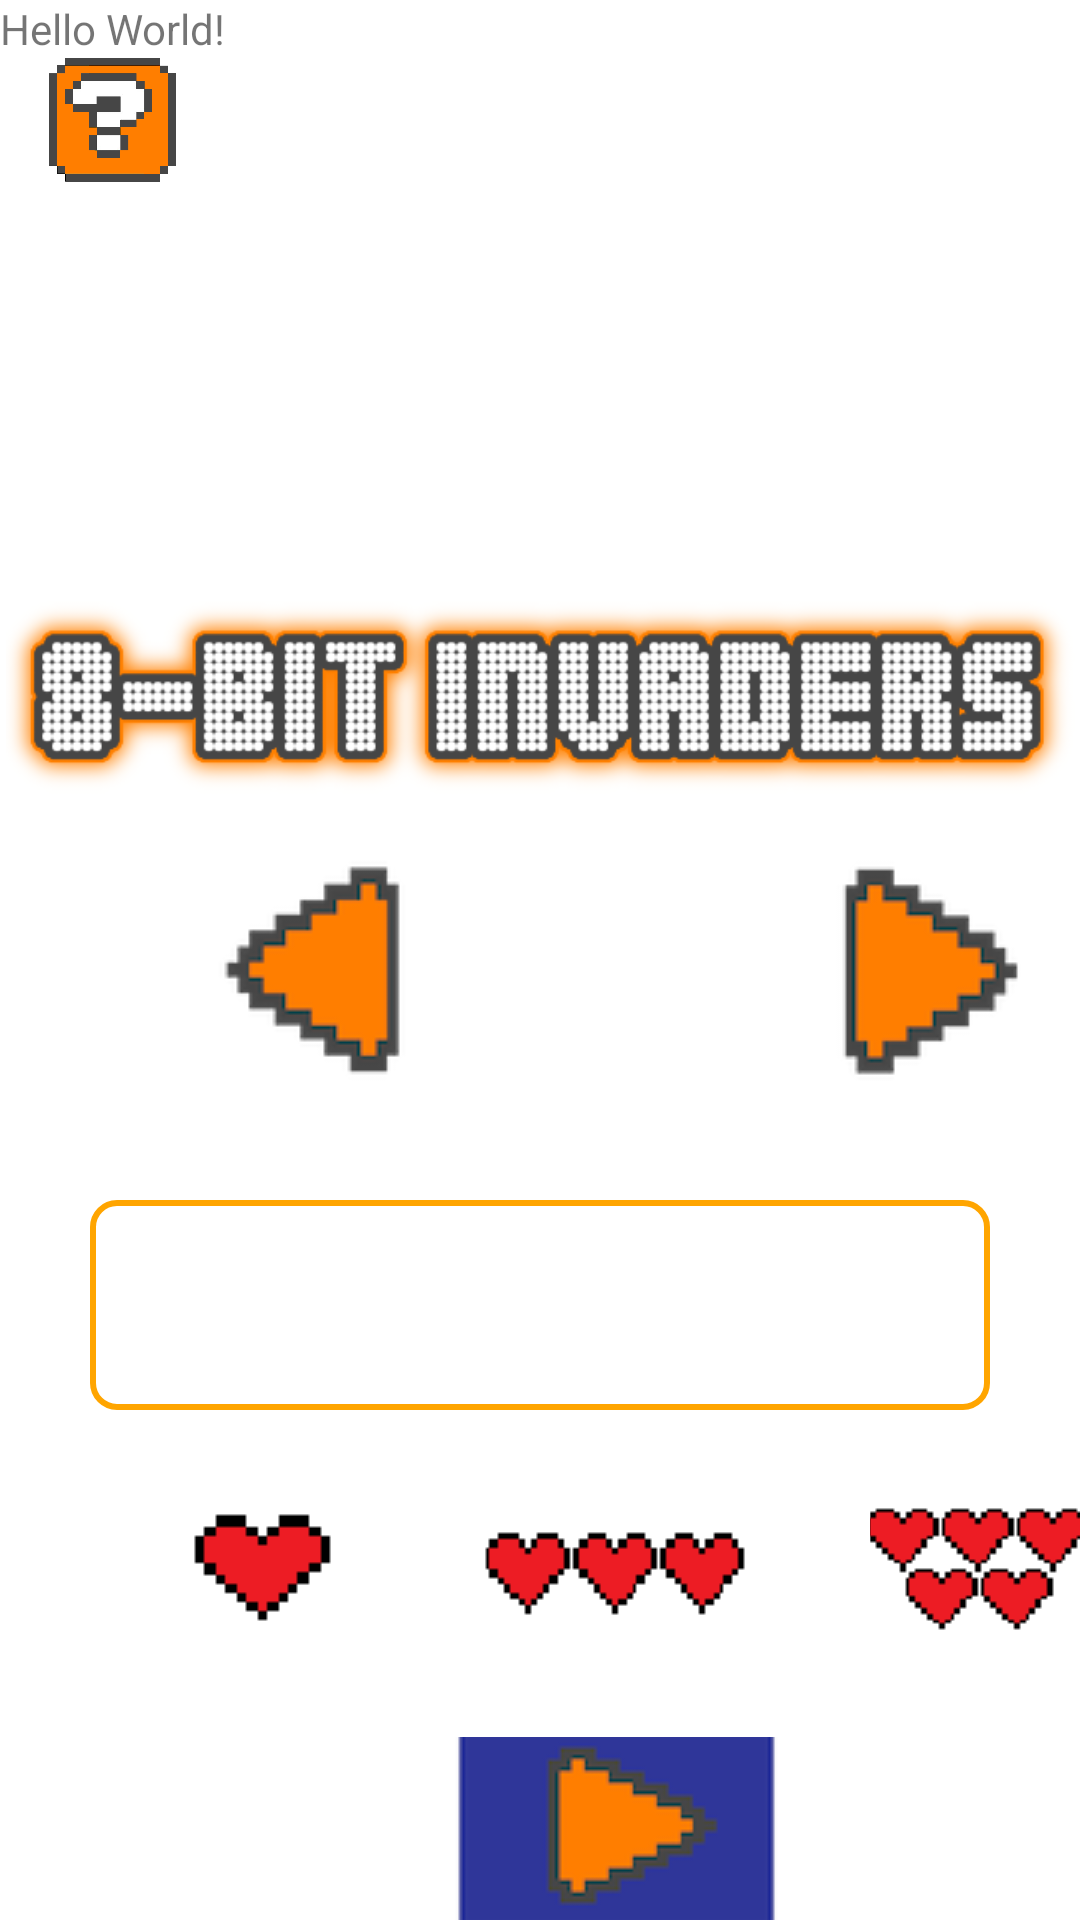

Screen size 1080px×1920px. Icon name, then its box in pixels as [left=x1, top=y1, right=x2, bottom=y2]:
help: [left=49, top=58, right=176, bottom=182]
leftbutton: [left=225, top=866, right=400, bottom=1073]
livefive: [left=870, top=1508, right=1080, bottom=1630]
liveone: [left=194, top=1514, right=331, bottom=1621]
livethree: [left=485, top=1532, right=745, bottom=1615]
play: [left=458, top=1737, right=775, bottom=1920]
rightbutton: [left=844, top=868, right=1018, bottom=1075]
